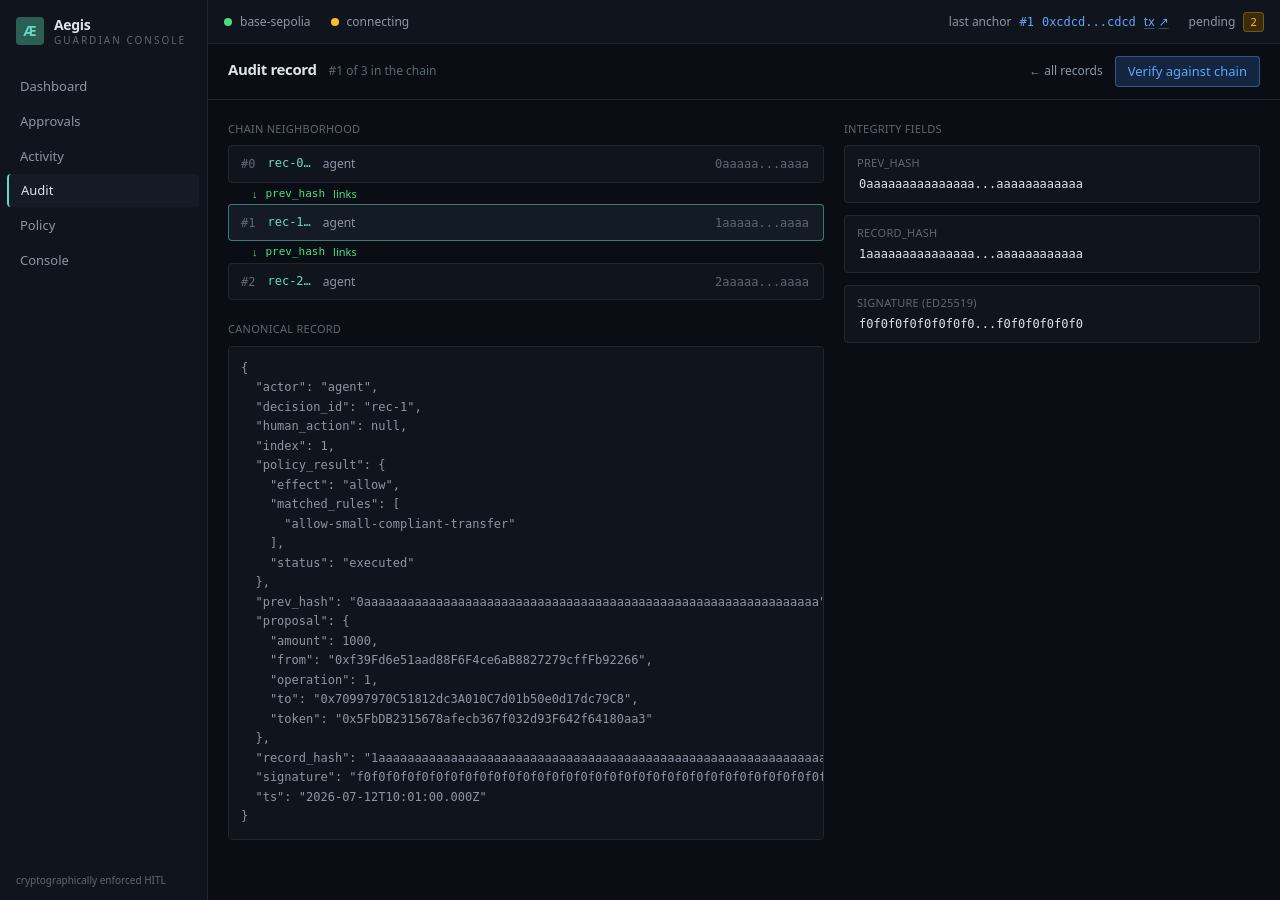
Test: AuditRecordPage › omits the anchor block for a record that is not anchored yet
Click the button "Verify against chain": click(1187, 71) [1115, 56, 1260, 87]
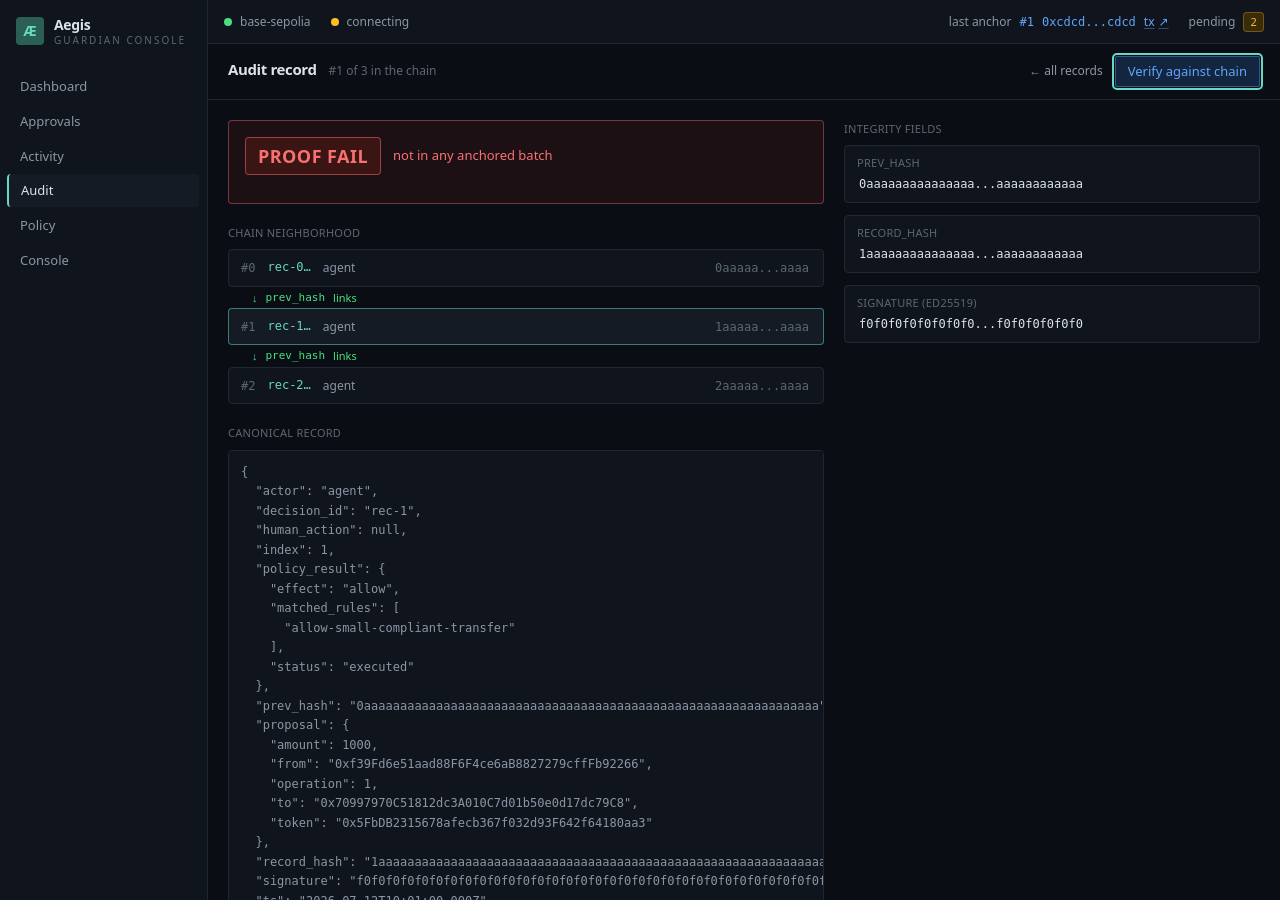
Expected: the text "not in any anchored batch" is shown, [393, 145, 553, 166]
